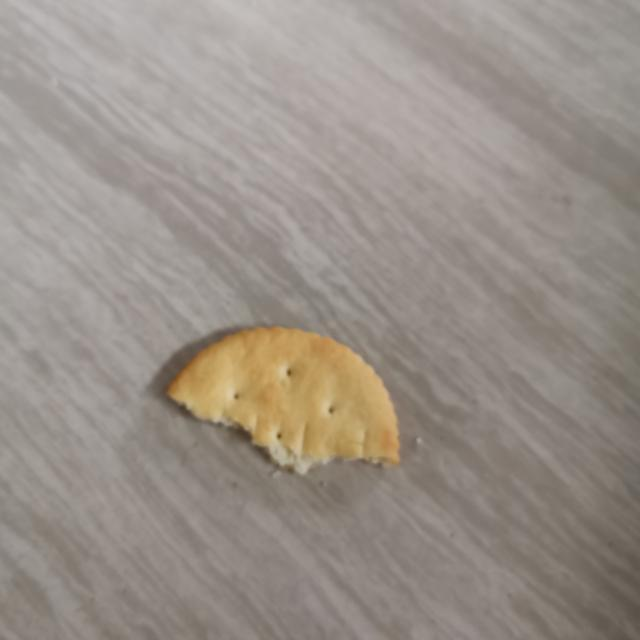Broken: (165, 325, 401, 475)
